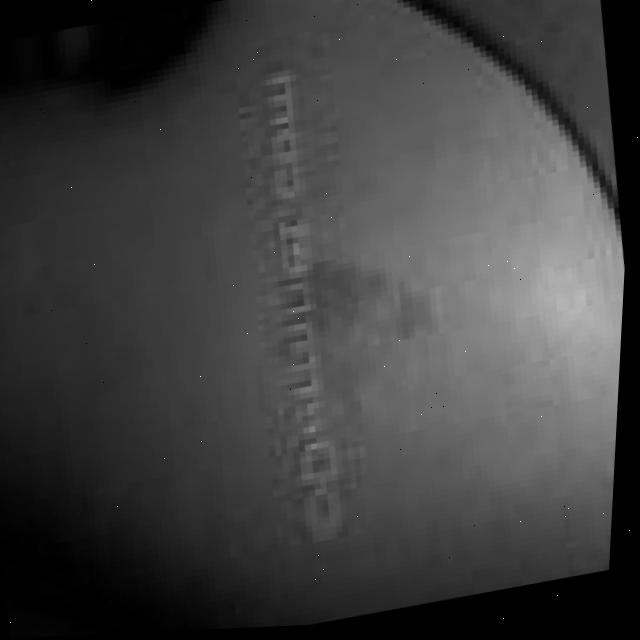Melasma: (267, 230, 467, 386)
